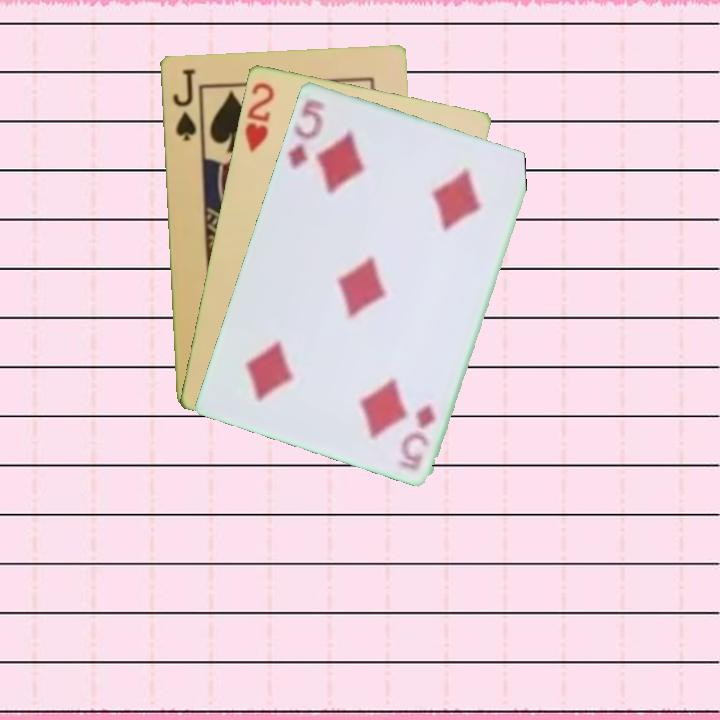2h: (241, 78, 277, 155)
5d: (284, 94, 328, 172), (402, 400, 438, 460)
Js: (169, 65, 199, 144)
